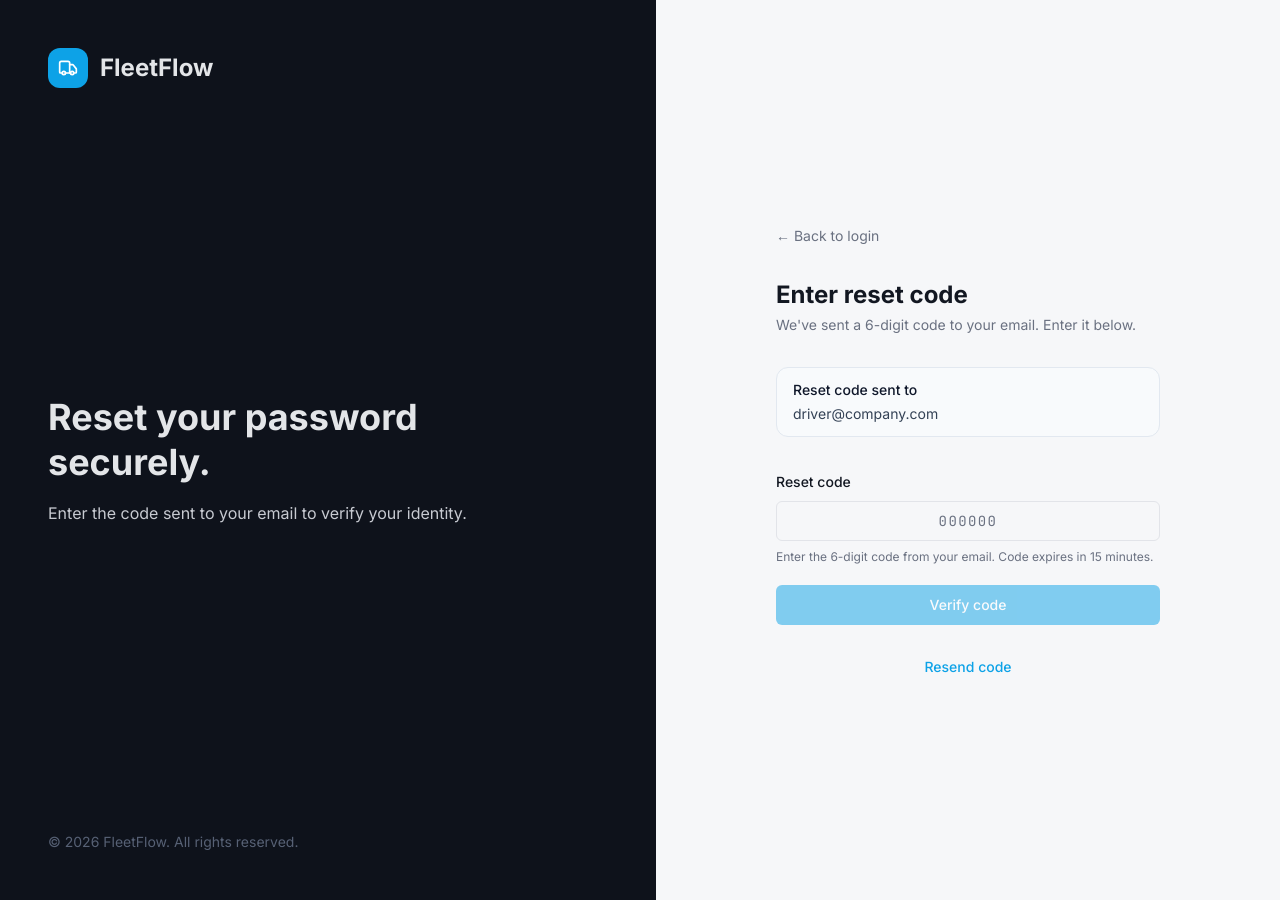
Test case: ResetPasswordPage › keeps the user on the OTP step when the reset code is invalid
In the field labelled "Reset code": (968, 521) [776, 501, 1160, 541], type "123456"
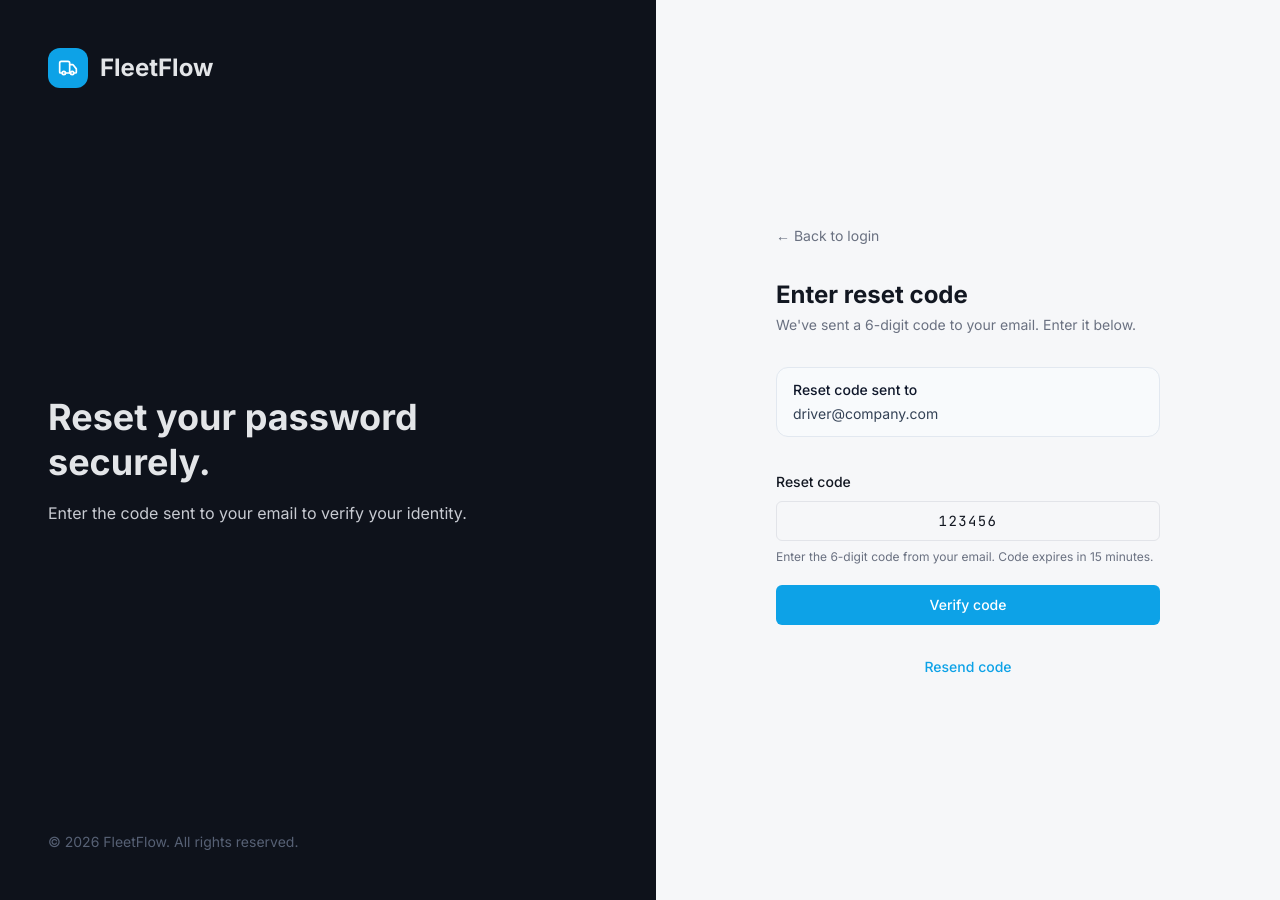
Click the button "Verify code": (968, 605) [776, 585, 1160, 625]
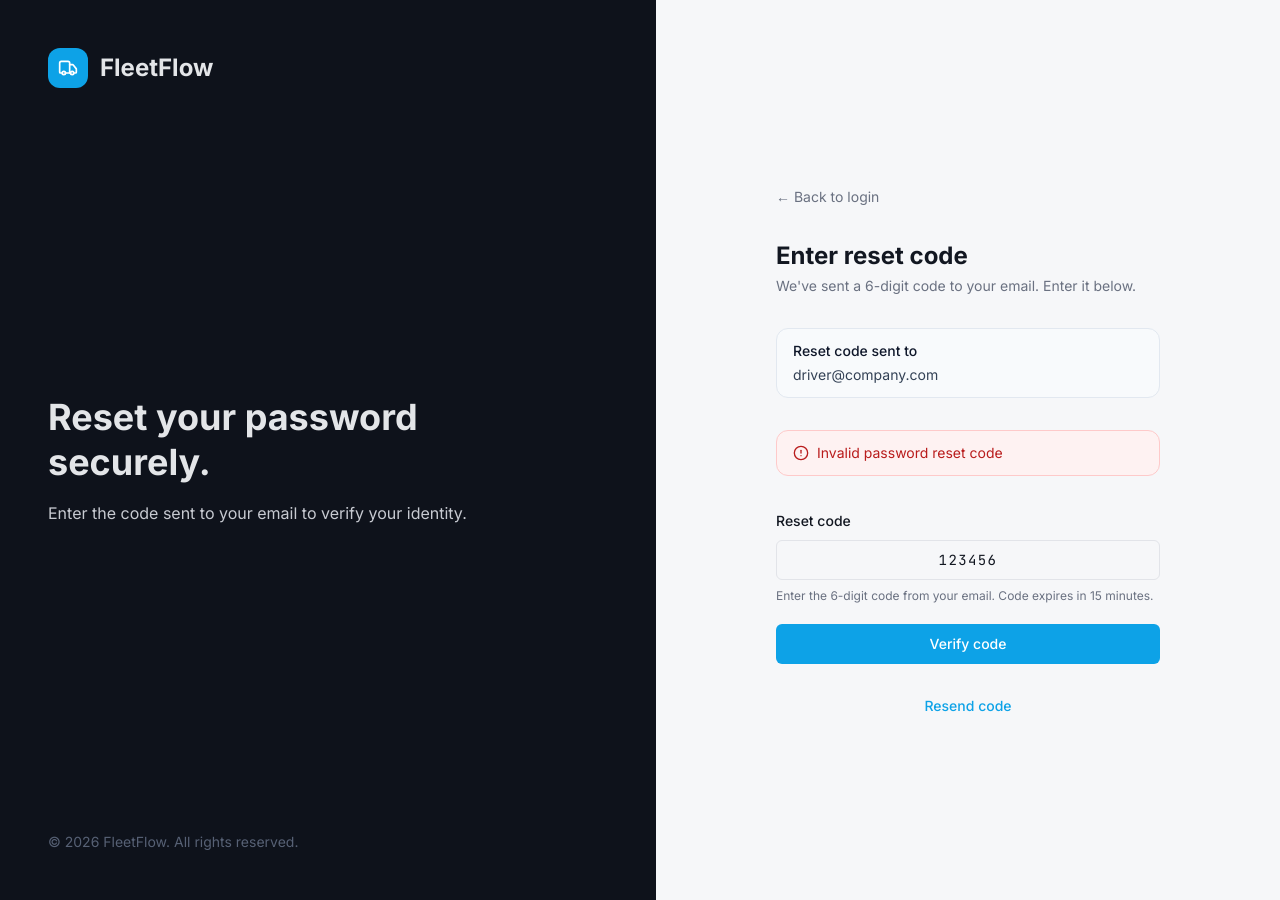
expect the heading "Enter reset code" is shown: met, box [776, 241, 968, 270]
expect the text "Invalid password reset code" is shown: met, box [817, 443, 1003, 463]
